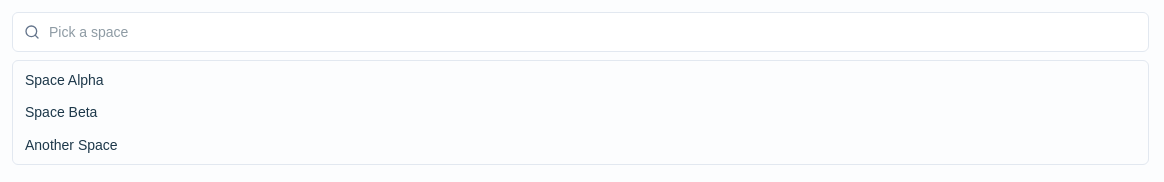
Test: SpaceTargetPicker › filters items by search term (case-insensitive)
Type "alpha" into the search field with placeholder "Pick a space" at (580, 32), box [12,12,1149,52]
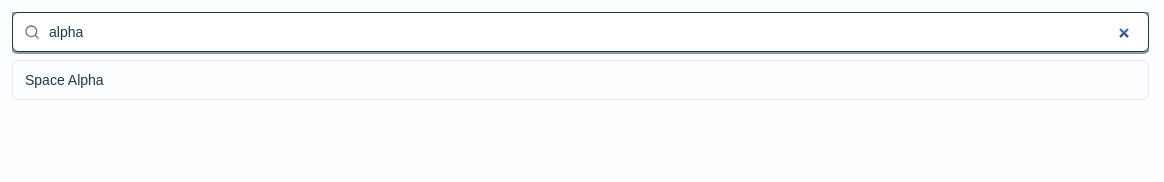
Expected: the button "Space Alpha" is shown, [17,65,1144,95]
Expected: the button "Space Beta" is gone
Expected: the button "Another Space" is gone
